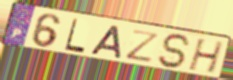6: (29, 13, 62, 50)
A: (88, 23, 123, 60)
H: (186, 38, 226, 76)
L: (63, 17, 87, 55)
S: (157, 33, 193, 70)
Z: (125, 28, 162, 64)
